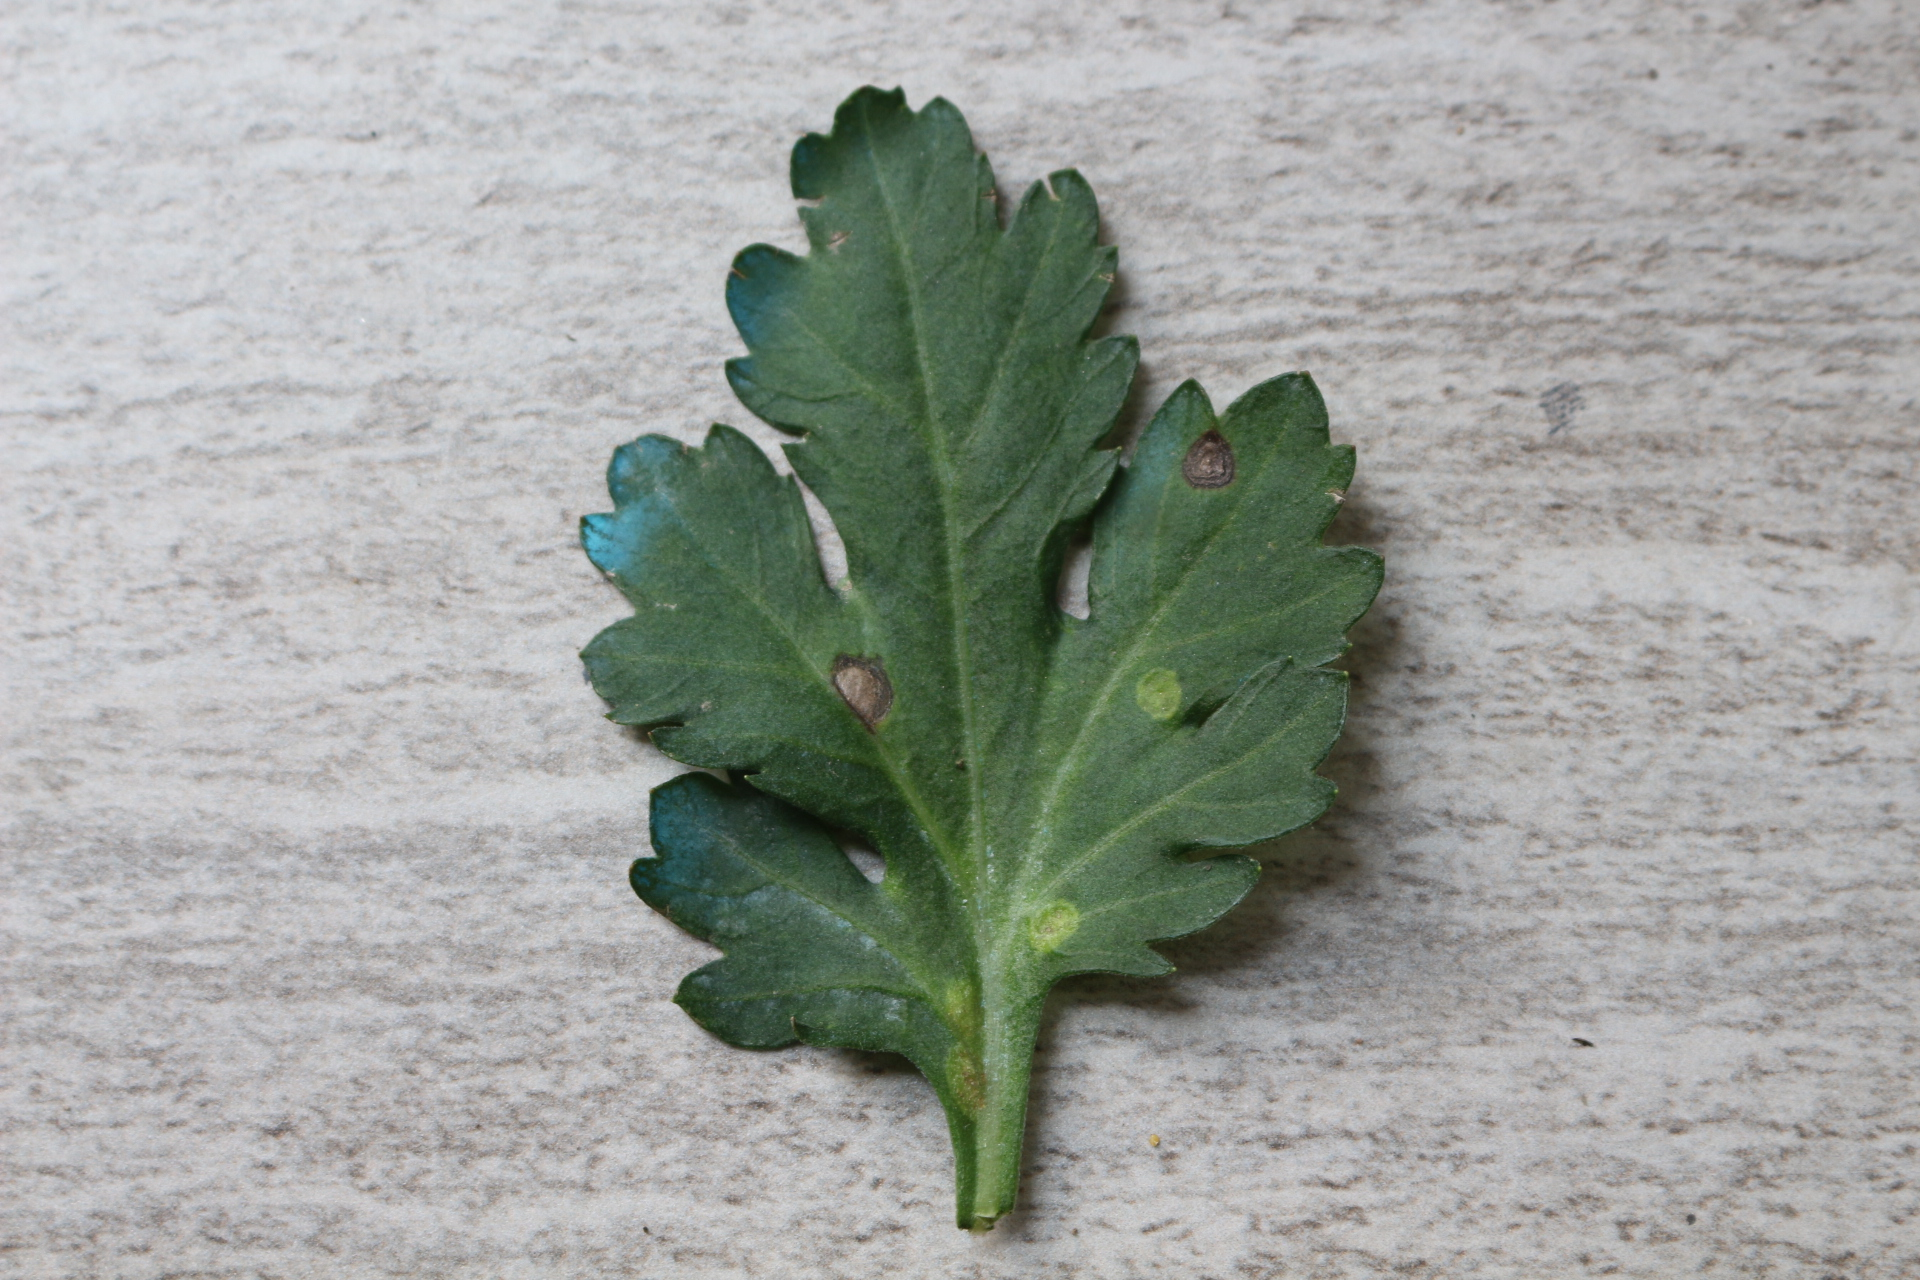namden: (831, 640, 900, 734), (1176, 431, 1239, 494)
namsung: (1130, 663, 1191, 727), (1029, 899, 1081, 956)
